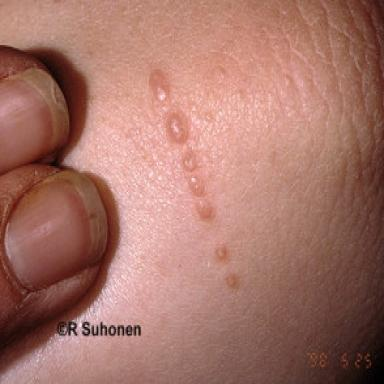Molluscum-Contagiosum: (169, 111, 188, 143), (152, 71, 169, 104), (197, 199, 215, 220), (182, 149, 196, 171), (190, 175, 203, 197), (227, 273, 237, 290), (217, 246, 227, 259)
